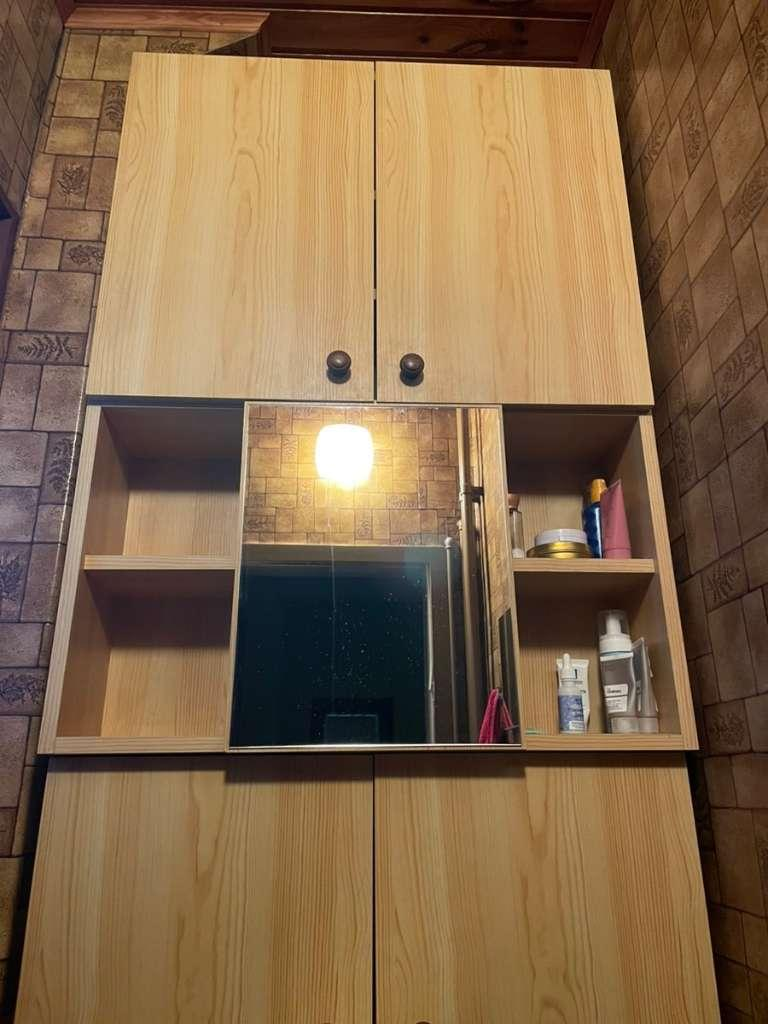cabinet_door: (110, 53, 372, 396), (377, 67, 629, 410), (51, 773, 377, 1024), (0, 436, 69, 546), (0, 539, 55, 621), (0, 624, 48, 672)
handle: (325, 340, 354, 391), (399, 340, 428, 389)
